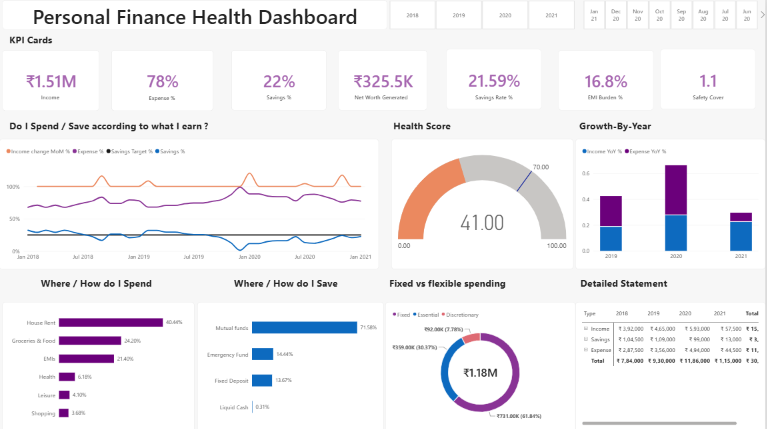

The dashboard page shown, as its layout file describes it:
{"tool":"powerbi","page":{"name":"Fin Dashboard","canvas":[1920,1080],"ordinal":0},"visuals":[{"type":"cardVisual","fields":{"Data":["Key measures.Total income"]},"box":[12.5,125,242.7,152],"z":0},{"type":"cardVisual","fields":{"Data":["Key measures.Expense %"]},"box":[285,125,255.7,152.9],"z":1000},{"type":"cardVisual","fields":{"Data":["Key measures.Savings %"]},"box":[585,125,238.6,151.4],"z":2000},{"type":"textbox","box":[612.5,232.5,183.7,40.7],"z":3000},{"type":"textbox","box":[42.5,232.5,183.7,40.7],"z":4000},{"type":"textbox","box":[320,235,184.3,40],"z":5000},{"type":"cardVisual","fields":{"Data":["Key measures.Total Saving"]},"box":[852.5,125,222.9,151.4],"z":6000},{"type":"textbox","box":[870,232.5,183.7,40.7],"z":7000},{"type":"slicer","fields":{"Values":["FinData.Year"]},"box":[960.8,0,502,74.5],"z":8000},{"type":"slicer","fields":{"Values":["FinData.Date"]},"box":[1445.1,0,474.5,74.5],"z":9000},{"type":"cardVisual","fields":{"Data":["Key measures.Title"]},"box":[13.5,0,962.1,74.2],"z":15000},{"type":"textbox","box":[480,690,482.5,57.5],"z":16000},{"type":"clusteredBarChart","fields":{"Category":["FinData.Component"],"Y":["Key measures.Total Expense"]},"box":[12.5,755,480,325],"z":17000},{"type":"clusteredBarChart","fields":{"Category":["FinData.Component"],"Y":["Key measures.Total Saving"]},"box":[500,755.7,465.7,324.3],"z":18000},{"type":"textbox","box":[17.5,690,460,35],"z":19000},{"type":"textbox","box":[30,297.5,505,70],"z":20000},{"type":"lineChart","fields":{"Category":["FinData.Date"],"Y":["Key measures.Income change MoM %","Key measures.Expense %","Key measures.Savings target","Key measures.Savings %"]},"box":[5,347.5,948.6,325.7],"z":21000},{"type":"textbox","box":[1457.5,690,397.5,70],"z":22002},{"type":"pivotTable","fields":{"Columns":["DimDate.Year"],"Rows":["Type.Type","DimComponent.Component"],"Values":["Sum(FinData.Value)"]},"box":[1445,755,475,325],"z":22004},{"type":"cardVisual","fields":{"Data":["Key measures.Emergency Fund Coverage (Months)"]},"box":[1657.5,122.5,238.6,151.4],"z":22006},{"type":"cardVisual","fields":{"Data":["Key measures.EMI Burden %"]},"box":[1402.5,125,238.6,151.4],"z":22007},{"type":"cardVisual","fields":{"Data":["Key measures.Savings Rate %"]},"box":[1122.5,122.5,238.6,151.4],"z":22008},{"type":"textbox","box":[30,81.4,158.8,42.5],"z":22011},{"type":"textbox","box":[1430,232.5,183.7,40.7],"z":22012},{"type":"textbox","box":[1150,232.5,183.7,40.7],"z":22013},{"type":"textbox","box":[1687.5,232.5,183.7,40.7],"z":22014},{"type":"gauge","fields":{"Y":["Key measures.Financial Health Score"]},"box":[985,347.5,455,325],"z":22015},{"type":"donutChart","fields":{"Category":["DimComponent.Nature"],"Y":["Key measures.Total Expense"]},"box":[970,755,475,325],"z":22017},{"type":"textbox","box":[990,297.5,455,70],"z":22019},{"type":"textbox","box":[980,690,475,70],"z":22020},{"type":"columnChart","fields":{"Category":["DimDate.Year"],"Y":["Key measures.Income YoY %","Key measures.Expense YoY %"]},"box":[1445,347.5,475,325],"z":22021},{"type":"textbox","box":[1455,297.5,455,70],"z":22022}]}

Visuals, with their boxes in screenshot pixels (x1, y1, x2, y2), scaled from the page's 1920x1080 canvas onto the 767x429 screenshot:
cardVisual - Key measures.Total income: l=5, t=50, r=102, b=110
cardVisual - Key measures.Expense %: l=114, t=50, r=216, b=110
cardVisual - Key measures.Savings %: l=234, t=50, r=329, b=110
textbox: l=245, t=92, r=318, b=109
textbox: l=17, t=92, r=90, b=109
textbox: l=128, t=93, r=201, b=109
cardVisual - Key measures.Total Saving: l=341, t=50, r=430, b=110
textbox: l=348, t=92, r=421, b=109
slicer - FinData.Year: l=384, t=0, r=584, b=30
slicer - FinData.Date: l=577, t=0, r=766, b=30
cardVisual - Key measures.Title: l=5, t=0, r=390, b=29
textbox: l=192, t=274, r=384, b=297
clusteredBarChart - FinData.Component x Key measures.Total Expense: l=5, t=300, r=197, b=428
clusteredBarChart - FinData.Component x Key measures.Total Saving: l=200, t=300, r=386, b=428
textbox: l=7, t=274, r=191, b=288
textbox: l=12, t=118, r=214, b=146
lineChart - FinData.Date x Key measures.Income change MoM %: l=2, t=138, r=381, b=267
textbox: l=582, t=274, r=741, b=302
pivotTable - DimDate.Year x Type.Type: l=577, t=300, r=766, b=428
cardVisual - Key measures.Emergency Fund Coverage (Months): l=662, t=49, r=757, b=109
cardVisual - Key measures.EMI Burden %: l=560, t=50, r=656, b=110
cardVisual - Key measures.Savings Rate %: l=448, t=49, r=544, b=109
textbox: l=12, t=32, r=75, b=49
textbox: l=571, t=92, r=645, b=109
textbox: l=459, t=92, r=533, b=109
textbox: l=674, t=92, r=748, b=109
gauge - Key measures.Financial Health Score: l=393, t=138, r=575, b=267
donutChart - DimComponent.Nature x Key measures.Total Expense: l=387, t=300, r=577, b=428
textbox: l=395, t=118, r=577, b=146
textbox: l=391, t=274, r=581, b=302
columnChart - DimDate.Year x Key measures.Income YoY %: l=577, t=138, r=766, b=267
textbox: l=581, t=118, r=763, b=146
